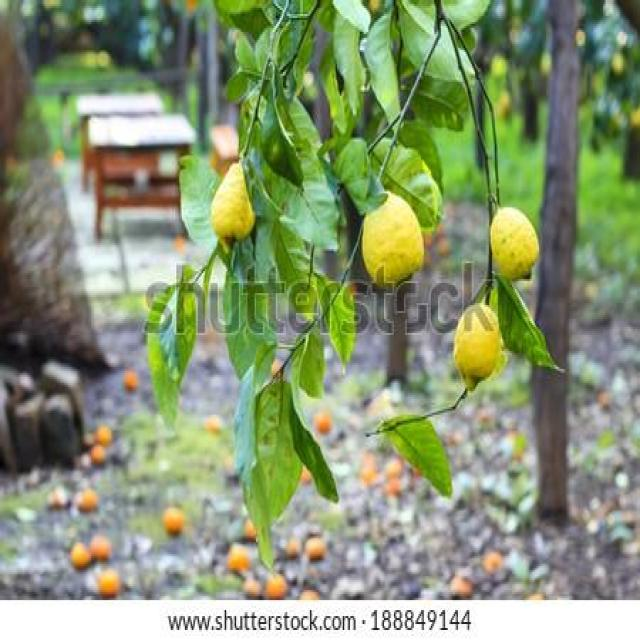fruit: (360, 192, 426, 287), (452, 302, 502, 384), (488, 204, 540, 282), (210, 160, 254, 243), (164, 506, 189, 544), (227, 543, 251, 572), (98, 568, 120, 596), (70, 542, 91, 569), (90, 536, 111, 562), (266, 574, 287, 599), (450, 574, 473, 596), (78, 489, 99, 512), (306, 537, 326, 561), (48, 488, 68, 510), (483, 551, 502, 573), (314, 412, 332, 434), (243, 578, 261, 598), (96, 424, 112, 446), (204, 415, 222, 434), (90, 444, 106, 465), (362, 460, 376, 483), (386, 458, 402, 478), (123, 370, 138, 391), (386, 478, 402, 496), (286, 538, 300, 557), (244, 520, 257, 540), (478, 410, 493, 425), (299, 589, 319, 600), (300, 467, 312, 483), (272, 359, 282, 375)
